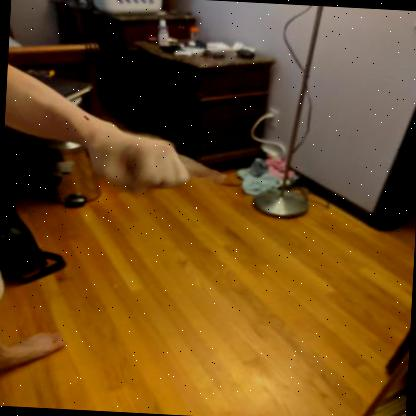J: (70, 117, 193, 192)
